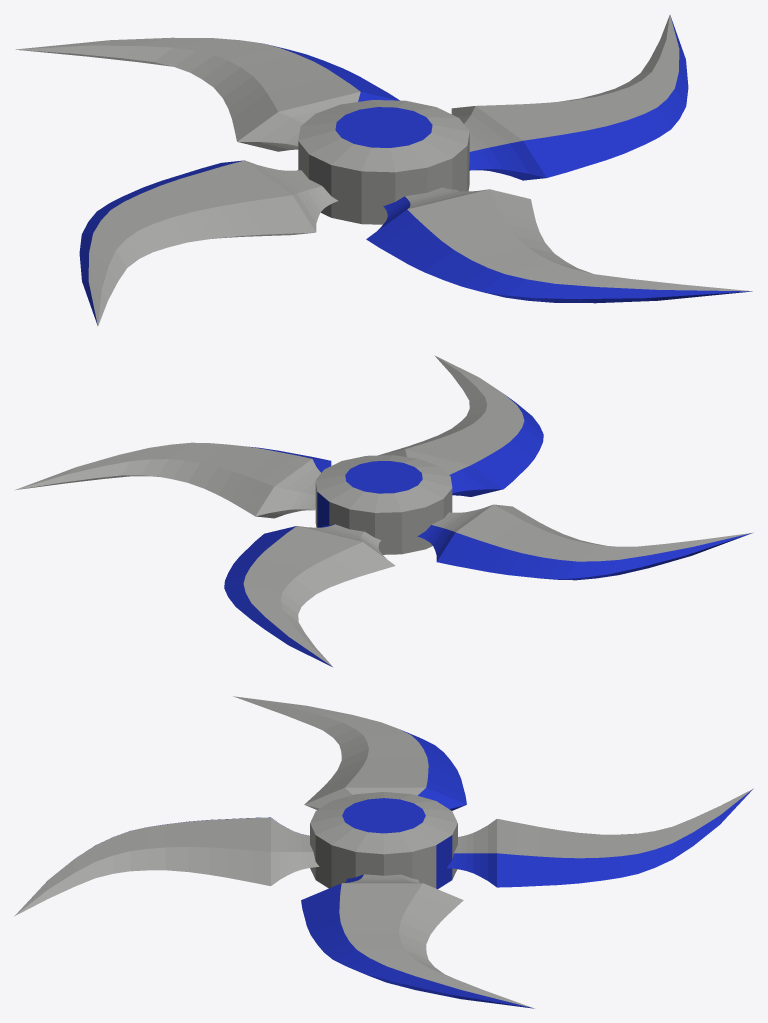
File: Beyblade_Upgraded_Blade_Water.fbx
3 views of the same model, one above another, from view 1: azimuth 30°, elevation 25°; view 2: azimuth 150°, elevation 25°; view 3: azimuth 270°, elevation 25° (orthographic). The views are drawn at different scales.
Visible parts, largest first — view 1: Circle.001; view 2: Circle.001; view 3: Circle.001.
Part boxes in pixels (<box>): Circle.001: <box>15,15,752,325</box>; Circle.001: <box>14,355,753,667</box>; Circle.001: <box>14,696,753,1008</box>.
Size of the model in its own units: 394 by 35.77 by 394.
1 material, 1 textured.
